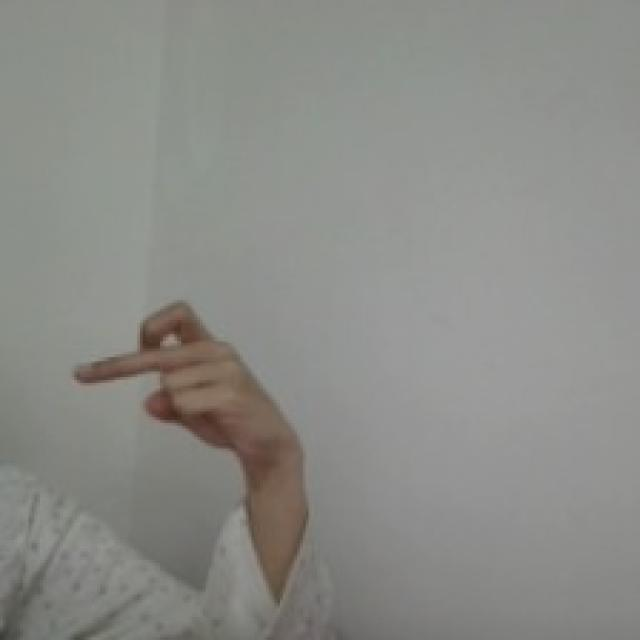sunday: (68, 295, 278, 457)
